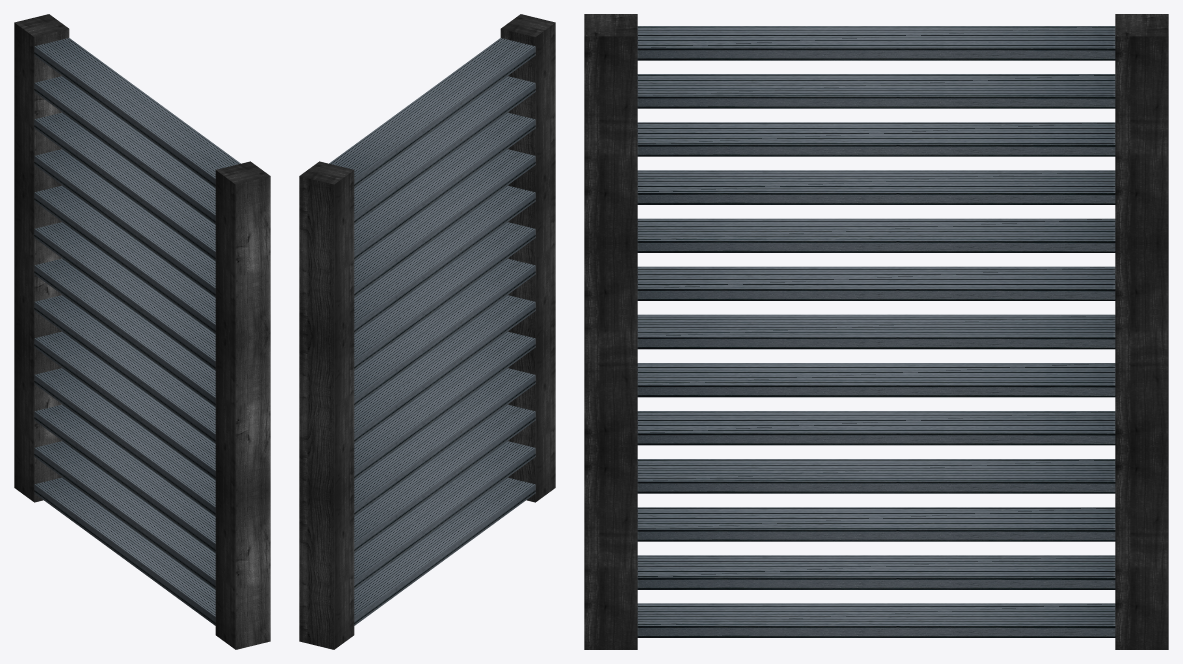
The model's file is Terrace_Wall_H.fbx.
3 renders of one model, left to right at view 1: azimuth 30°, elevation 25°; view 2: azimuth 150°, elevation 25°; view 3: azimuth 270°, elevation 25°, orthographic. The views are drawn at different scales.
Visible parts, largest first — view 1: Terrace_Wall_H; view 2: Terrace_Wall_H; view 3: Terrace_Wall_H.
Part boxes in pixels (x1=…): Terrace_Wall_H: x1=14, y1=14, x2=270, y2=649; Terrace_Wall_H: x1=299, y1=14, x2=555, y2=649; Terrace_Wall_H: x1=584, y1=14, x2=1168, y2=649.
Bounding box in the file's own units: 20 × 255 × 220.
Materials: 2 (2 with a texture image).
